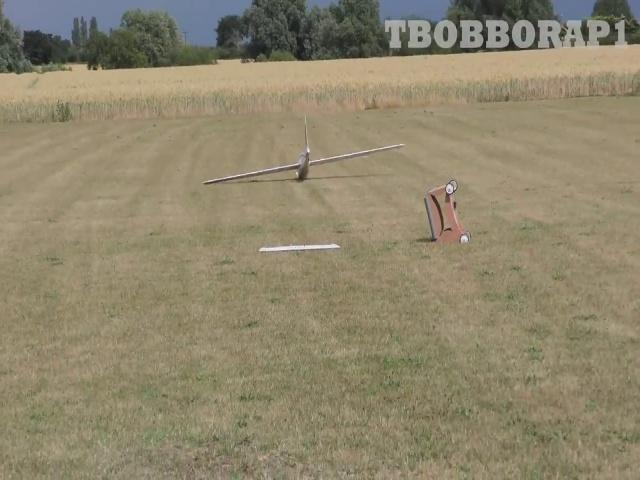Airplane: (204, 114, 404, 185)
